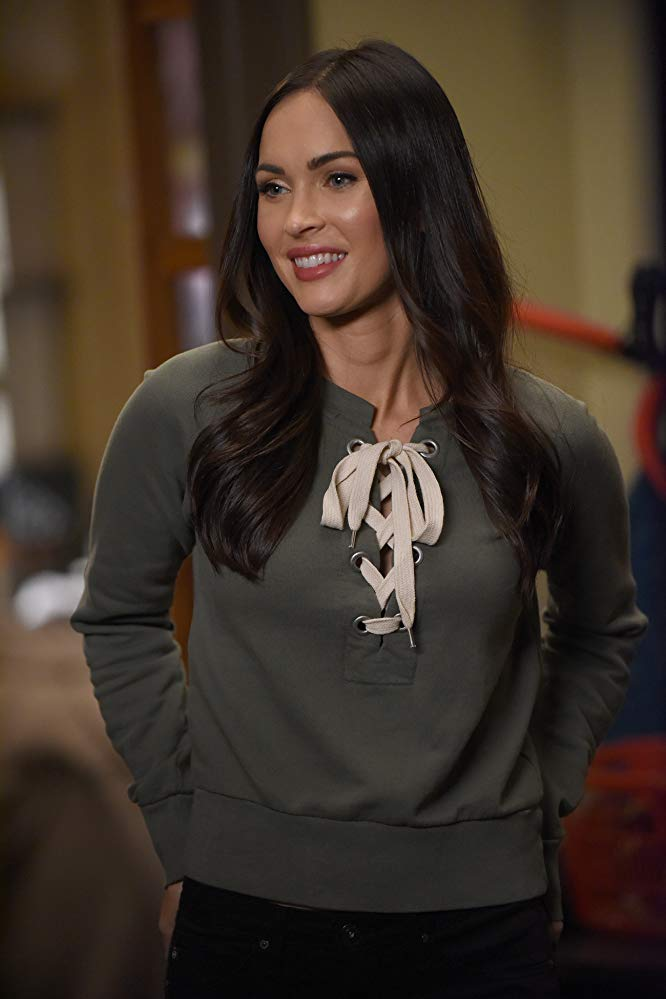person: (80, 41, 595, 999)
